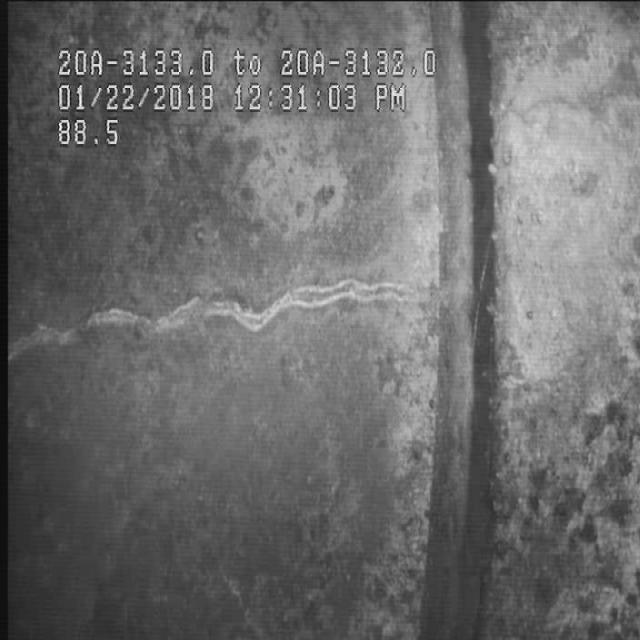Crack: (29, 228, 427, 410)
